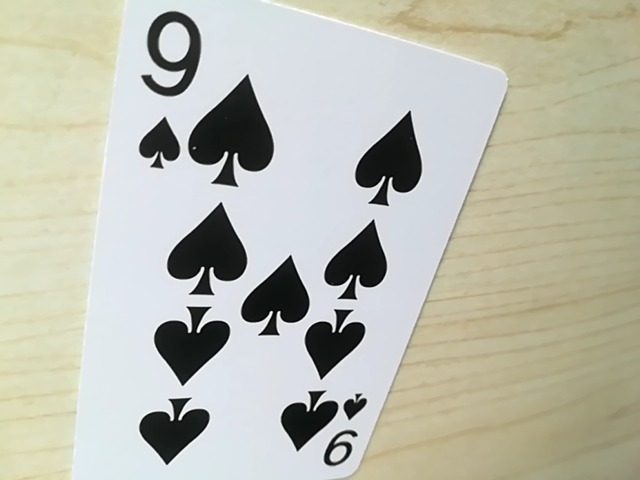ht 9: (123, 0, 209, 179), (314, 391, 370, 478)
